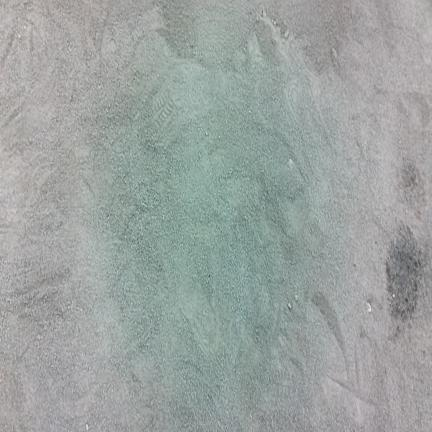Rock: (289, 159, 294, 167), (367, 303, 371, 312), (288, 303, 291, 309), (295, 295, 298, 301)
